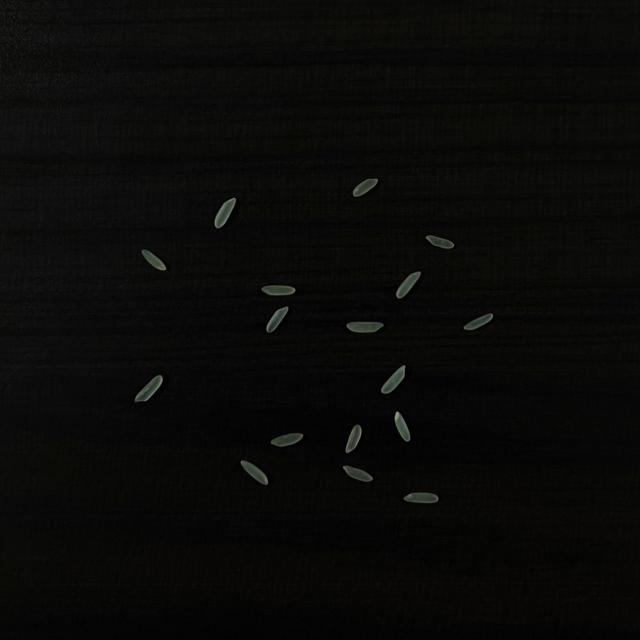Full: (134, 375, 164, 402), (381, 364, 406, 394), (241, 460, 268, 485), (215, 198, 236, 228), (396, 272, 420, 298), (266, 306, 288, 333), (142, 249, 166, 271), (343, 465, 373, 482), (345, 424, 362, 453), (353, 178, 378, 197), (395, 411, 410, 442), (463, 314, 492, 330), (271, 433, 303, 447), (426, 235, 455, 249), (346, 322, 384, 332), (404, 493, 439, 503), (262, 285, 296, 295)
